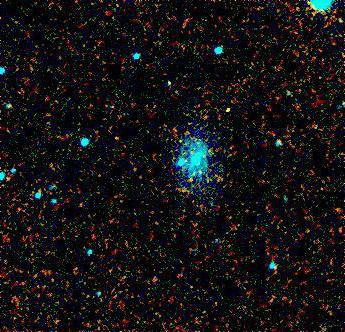star: (213, 93, 243, 123)
